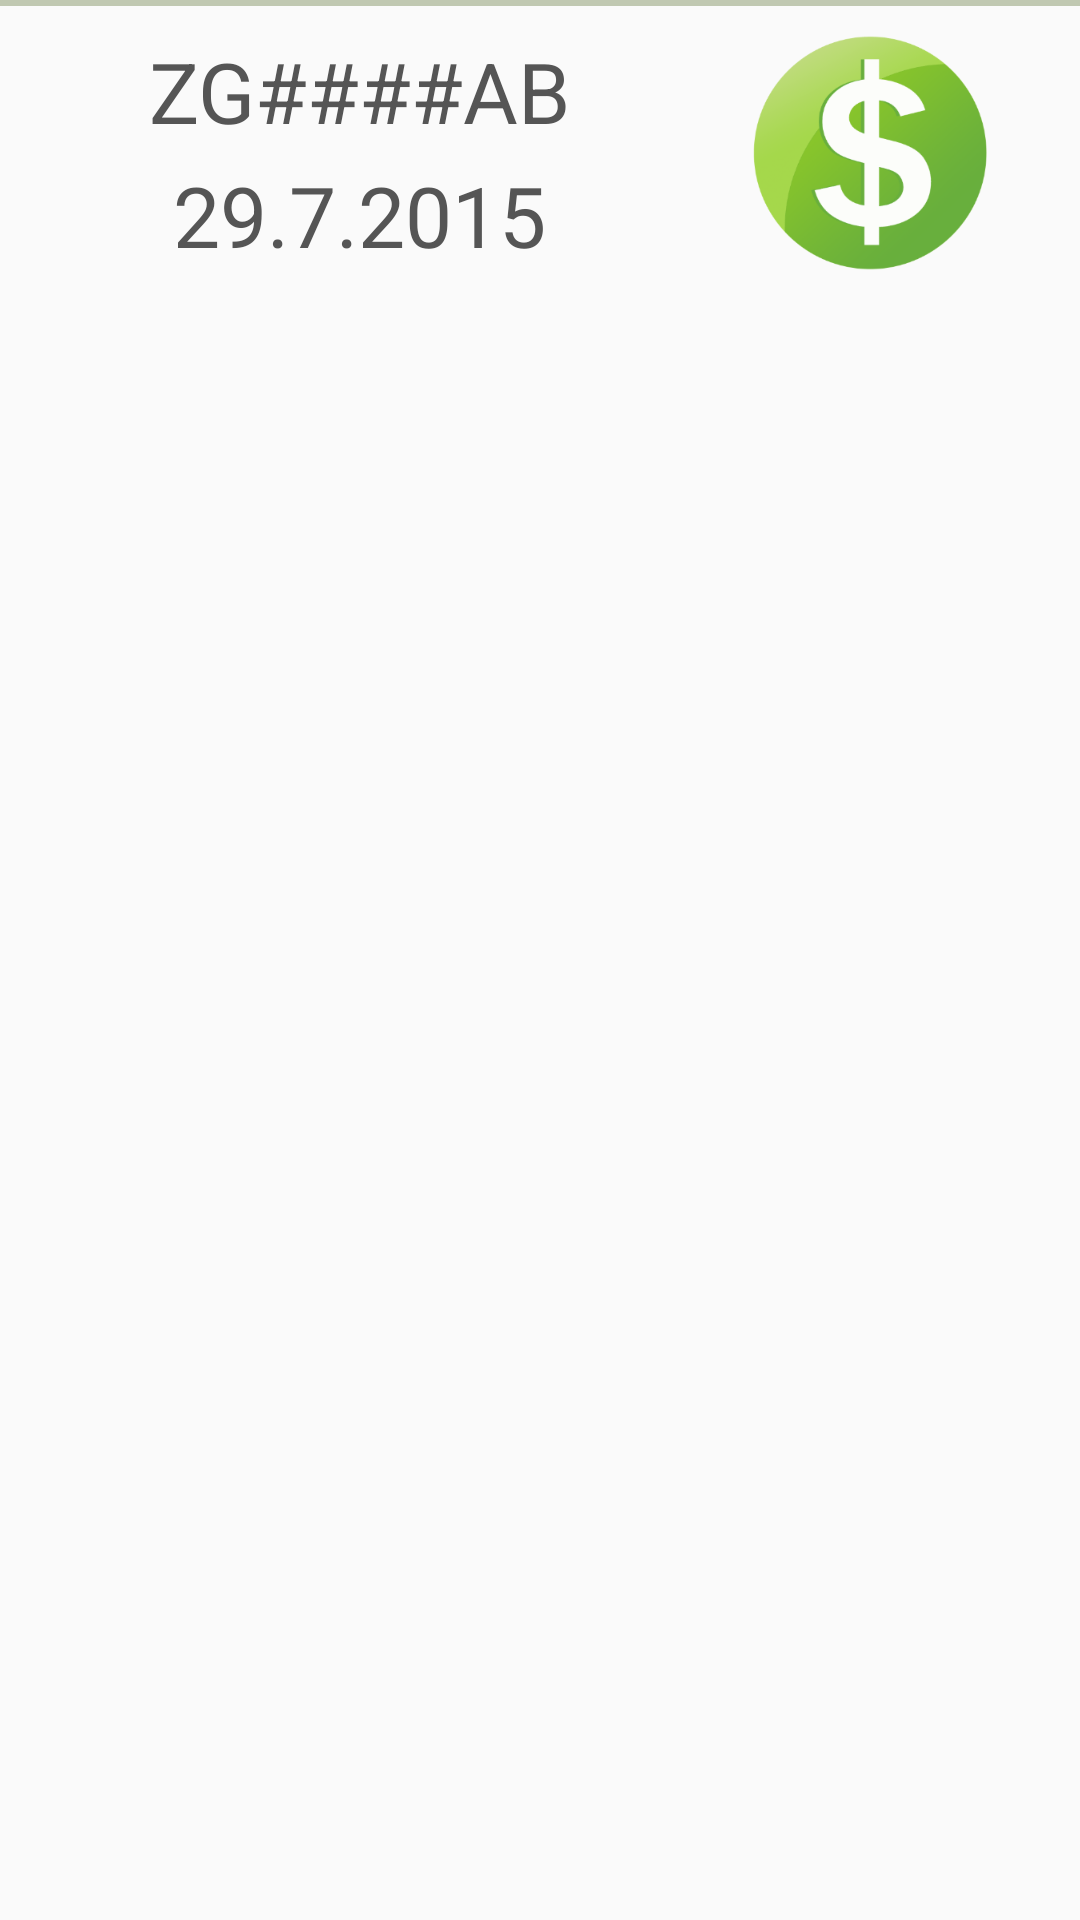

Named icons in this screenshot (1080 × 1920) and their centers, [x,y]:
parky novac: [870,153]
